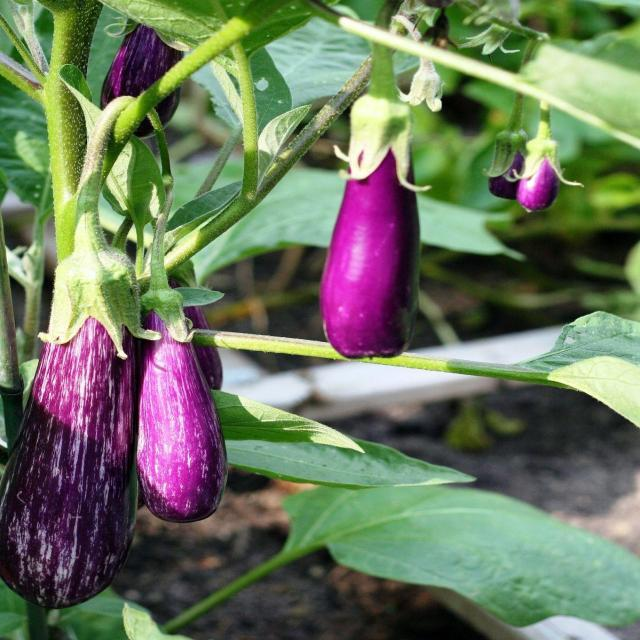eggplant: (132, 177, 228, 522), (319, 42, 420, 358)
